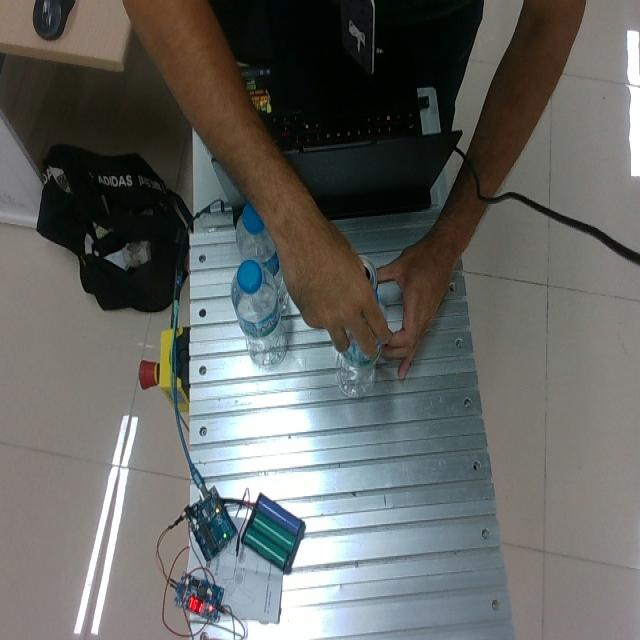coca: (358, 254, 378, 294)
lavie: (334, 273, 384, 396), (234, 264, 287, 368), (235, 204, 284, 313)
